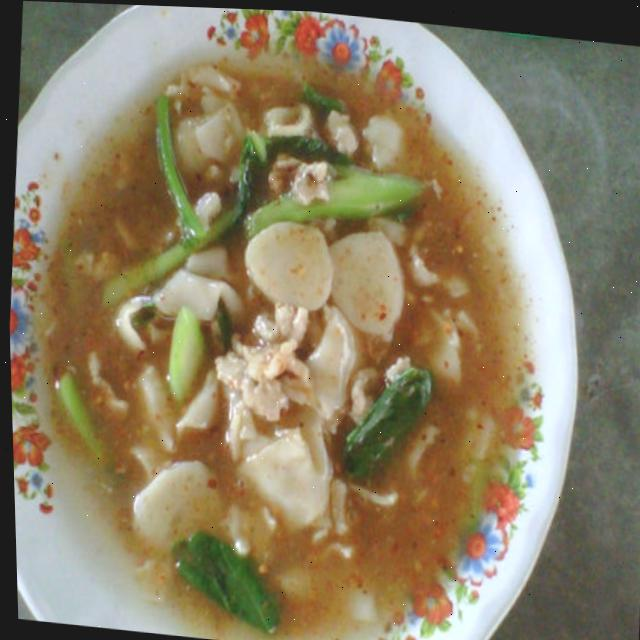面条主食: (0, 0, 577, 640)
